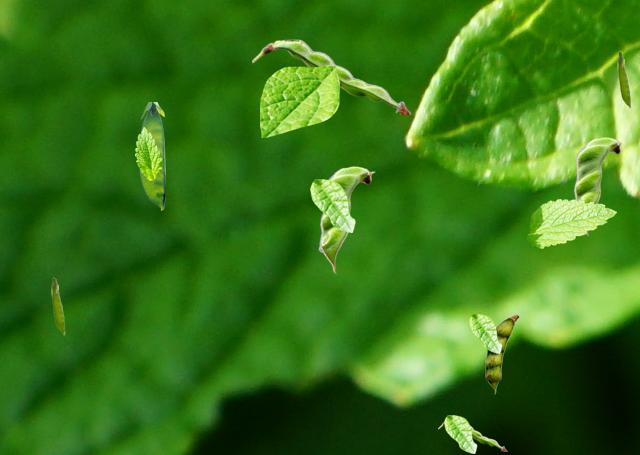pea: (252, 39, 410, 113), (318, 166, 374, 273), (573, 137, 623, 235), (139, 102, 164, 209), (485, 314, 518, 393), (438, 422, 506, 450), (617, 51, 630, 108), (51, 277, 64, 334)
